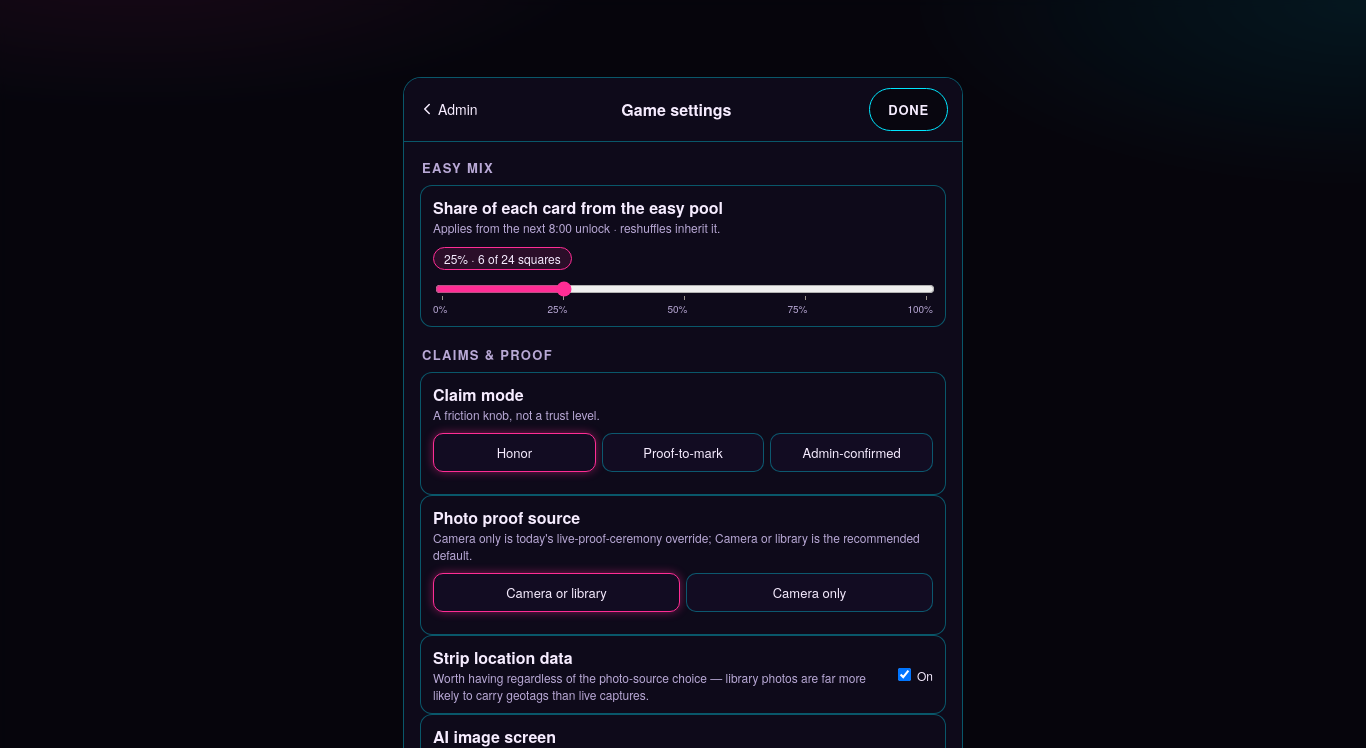
Scenario: Admin Game settings (specs/d15-admin-proof-claims.md rows, re-housed at /more/admin/settings) › the Easy mix slider (specs/admin-console-ia.md) reflects easyMixRatio, shows the squares bubble, and commits on release
expect the text "25% · 6 of 24 squares" is shown: met, box x1=433 y1=247 x2=572 y2=270
expect the text "Applies from the next 8:00 unlock · reshuffles inherit it." is shown: met, box x1=433 y1=219 x2=720 y2=236
Set the slider named "Easy mix percentage" to "50" at (685,289), box x1=435 y1=278 x2=935 y2=300
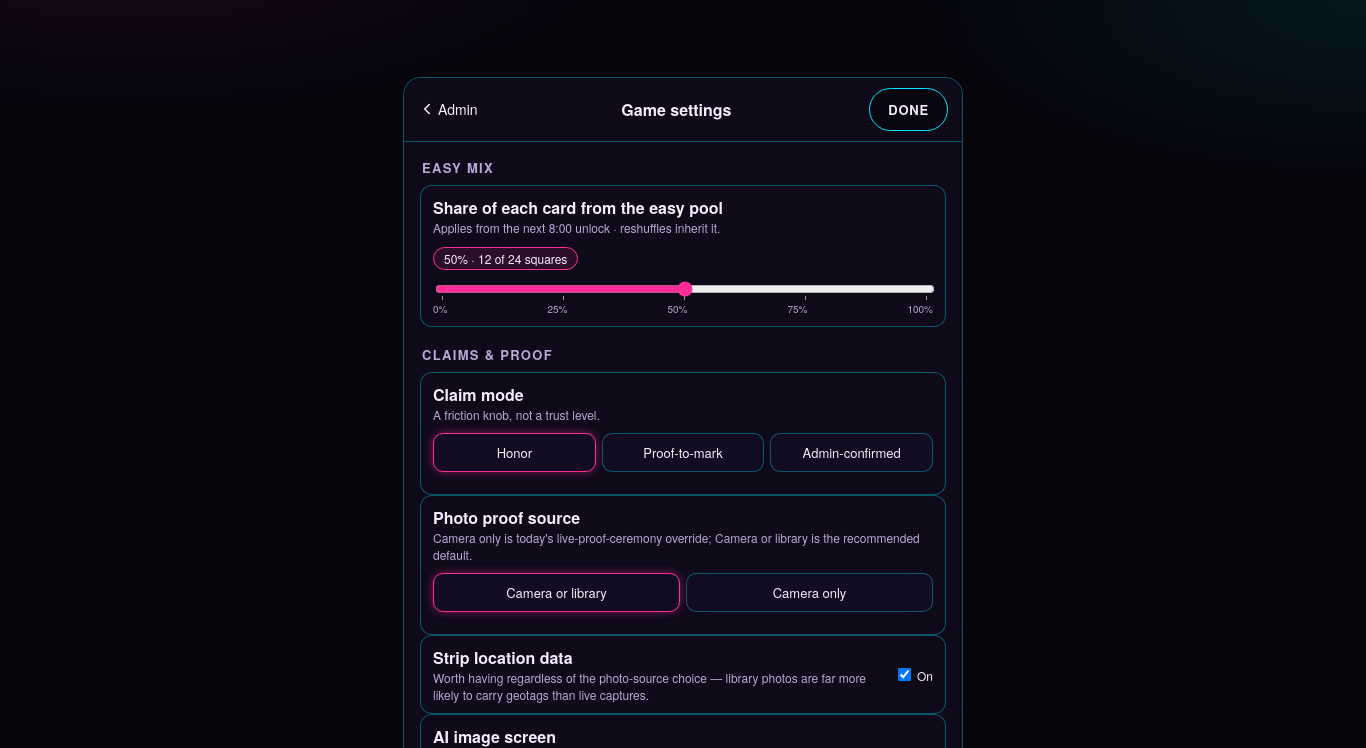
expect the text "50% · 12 of 24 squares" is shown: met, box x1=433 y1=247 x2=578 y2=270
